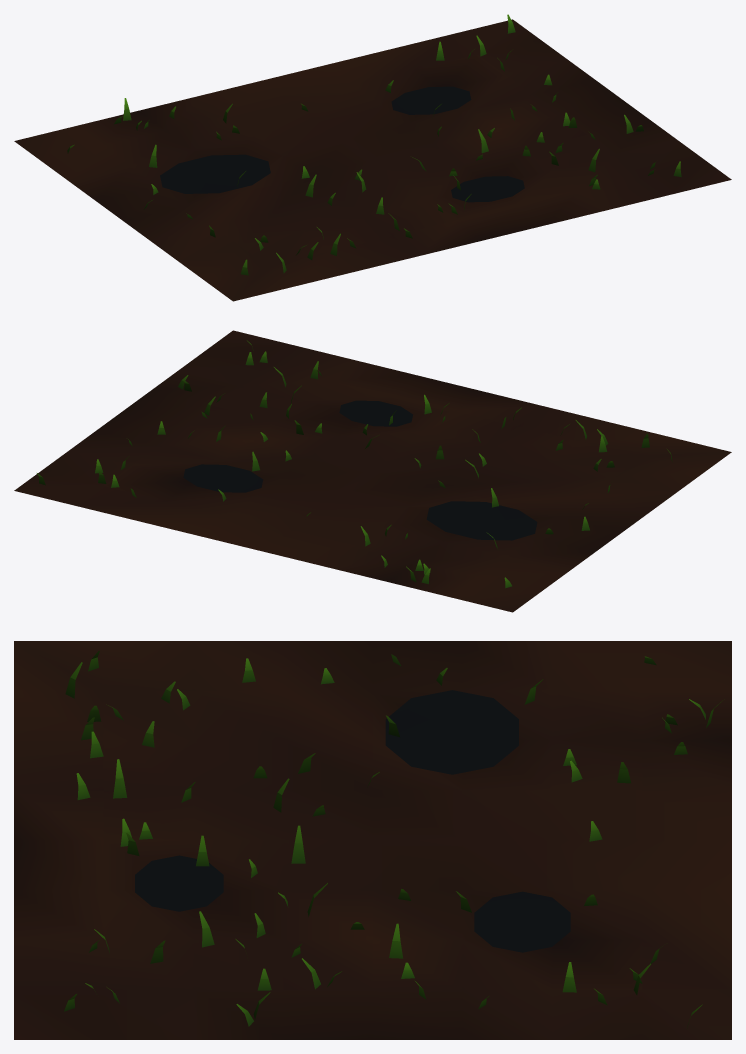
The model's file is fm_turf_wet.glb.
3 views of the same model, one above another, from view 1: azimuth 30°, elevation 25°; view 2: azimuth 150°, elevation 25°; view 3: azimuth 270°, elevation 25° (orthographic). The views are drawn at different scales.
Parts seen in each view (by area): view 1: fm_turf_wet; view 2: fm_turf_wet; view 3: fm_turf_wet.
Part boxes in pixels (<box>): fm_turf_wet: <box>14,14,731,301</box>; fm_turf_wet: <box>14,330,731,612</box>; fm_turf_wet: <box>14,641,731,1039</box>.
Bounding box in the file's own units: 2.3 × 0.0851 × 1.75.
